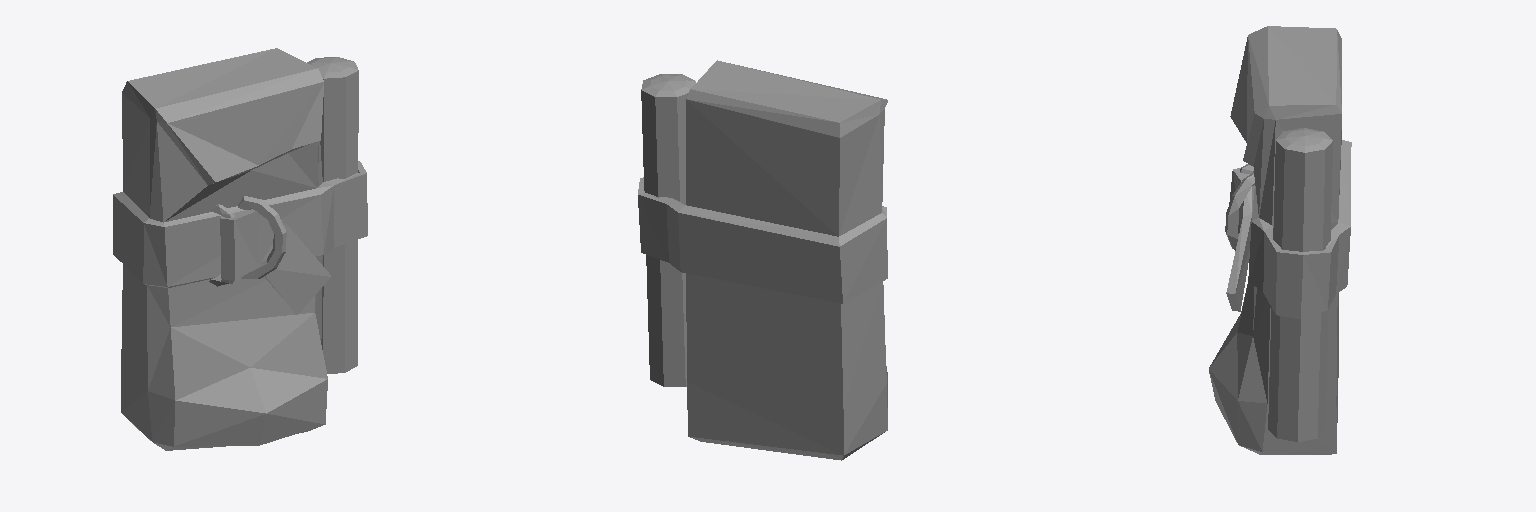
File: Flares.obj
The picture shows the model from 3 angles: view 1: azimuth 30°, elevation 25°; view 2: azimuth 150°, elevation 25°; view 3: azimuth 270°, elevation 25°; orthographic projection.
Size of the model in its own units: 0.1745 by 0.2562 by 0.0931.